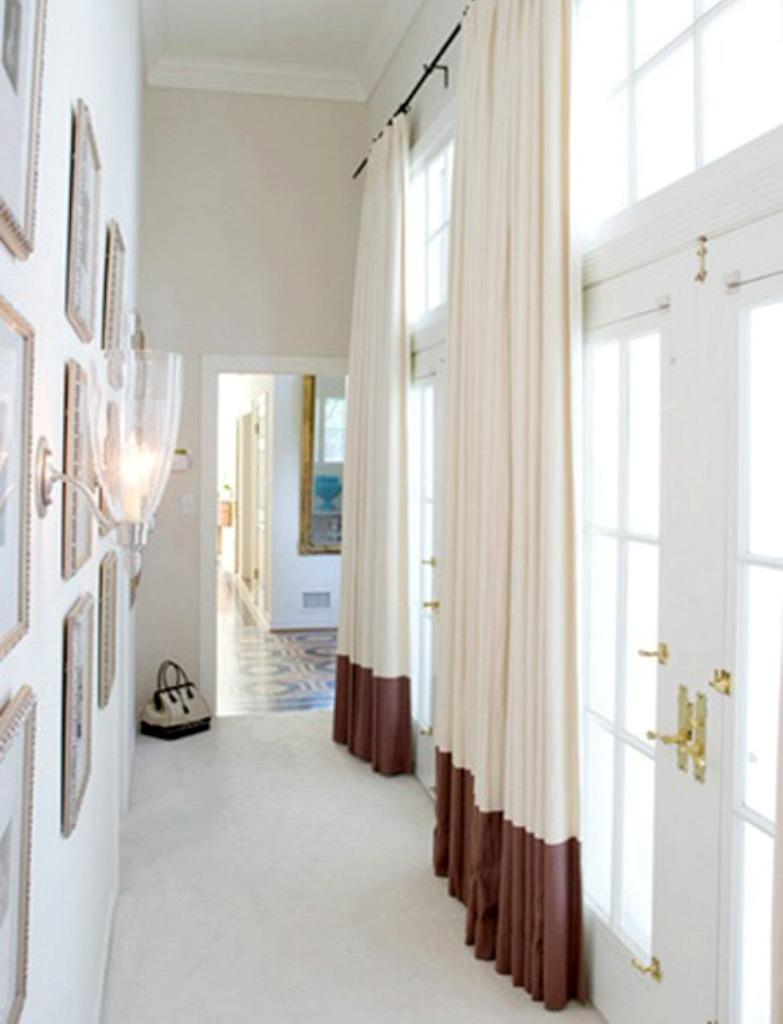handle: (642, 710, 688, 746), (638, 640, 670, 670), (694, 736, 709, 782)
